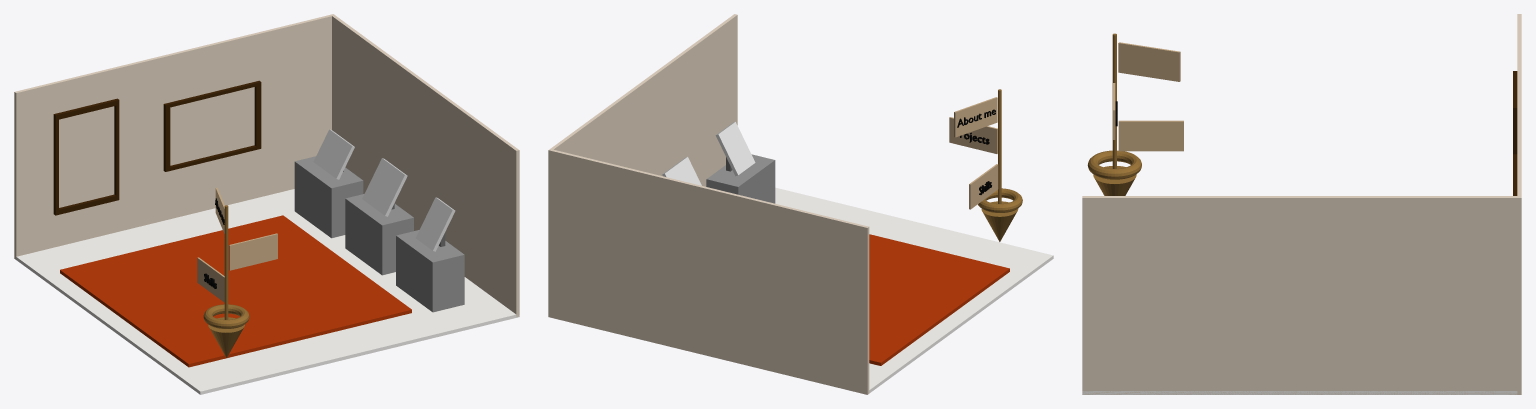
File: padtaiPortfolio.glb
3 renders of one model, left to right at view 1: azimuth 30°, elevation 25°; view 2: azimuth 150°, elevation 25°; view 3: azimuth 270°, elevation 25°, orthographic. The views are drawn at different scales.
Visible parts, largest first — view 1: Plane.002, Plane.001, Plane.008, Plane, Plane.006, Plane.005, Plane.007, Plane.004, Plane.003, Plane.013, Plane.016, Plane.015 (+5 smaller); view 2: Plane.002, Plane.001, Plane.008, Plane, Plane.006, Plane.014, Plane.017, Plane.016, Plane.009, Torus, Cone, Plane.013 (+1 smaller); view 3: Plane.001, Plane.009, Plane.017, Plane.002, Plane, Torus, Cone, Cylinder, Plane.003.
Boxes of the visible parts, x1,y1,x2,y2 form: Plane.002: [14, 14, 334, 259]; Plane.001: [332, 15, 519, 317]; Plane.008: [60, 215, 411, 367]; Plane: [16, 189, 519, 394]; Plane.006: [396, 230, 464, 312]; Plane.005: [294, 156, 363, 238]; Plane.007: [345, 194, 413, 275]; Plane.004: [163, 80, 261, 171]; Plane.003: [53, 98, 119, 215]; Plane.013: [362, 158, 407, 216]; Plane.016: [229, 233, 277, 270]; Plane.015: [313, 129, 354, 179]; Plane.002: [548, 149, 869, 394]; Plane.001: [550, 14, 737, 186]; Plane.008: [869, 234, 1009, 365]; Plane: [775, 187, 1053, 393]; Plane.006: [706, 154, 775, 203]; Plane.014: [715, 122, 755, 176]; Plane.017: [954, 97, 997, 137]; Plane.016: [949, 117, 997, 153]; Plane.009: [969, 164, 998, 209]; Torus: [978, 188, 1022, 212]; Cone: [981, 201, 1018, 241]; Plane.013: [662, 156, 701, 185]; Plane.001: [1082, 196, 1517, 394]; Plane.009: [1118, 120, 1183, 151]; Plane.017: [1118, 42, 1180, 81]; Plane.002: [1517, 14, 1521, 394]; Plane: [1082, 391, 1517, 394]; Torus: [1087, 150, 1141, 179]; Cone: [1093, 166, 1136, 195]; Cylinder: [1112, 33, 1116, 168]; Plane.003: [1513, 71, 1517, 154].
Bounding box in the file's own units: 20 × 10.13 × 20.2.
